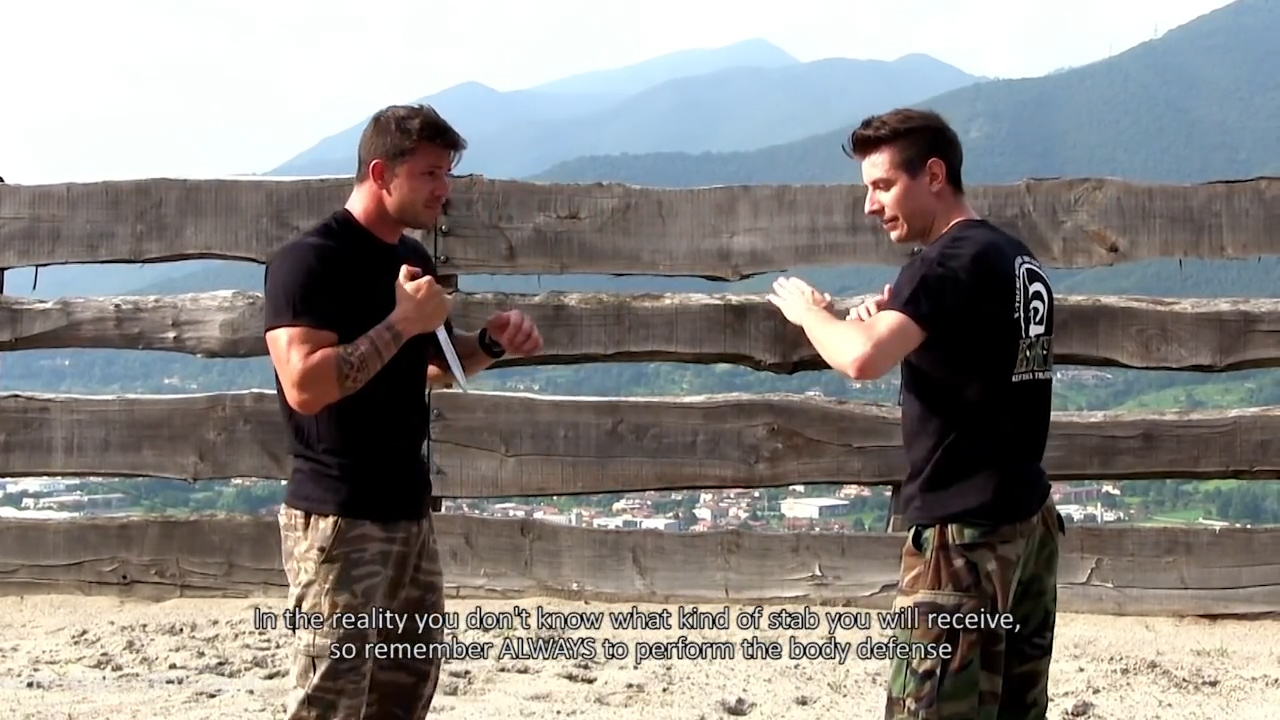knife: (396, 262, 478, 403)
